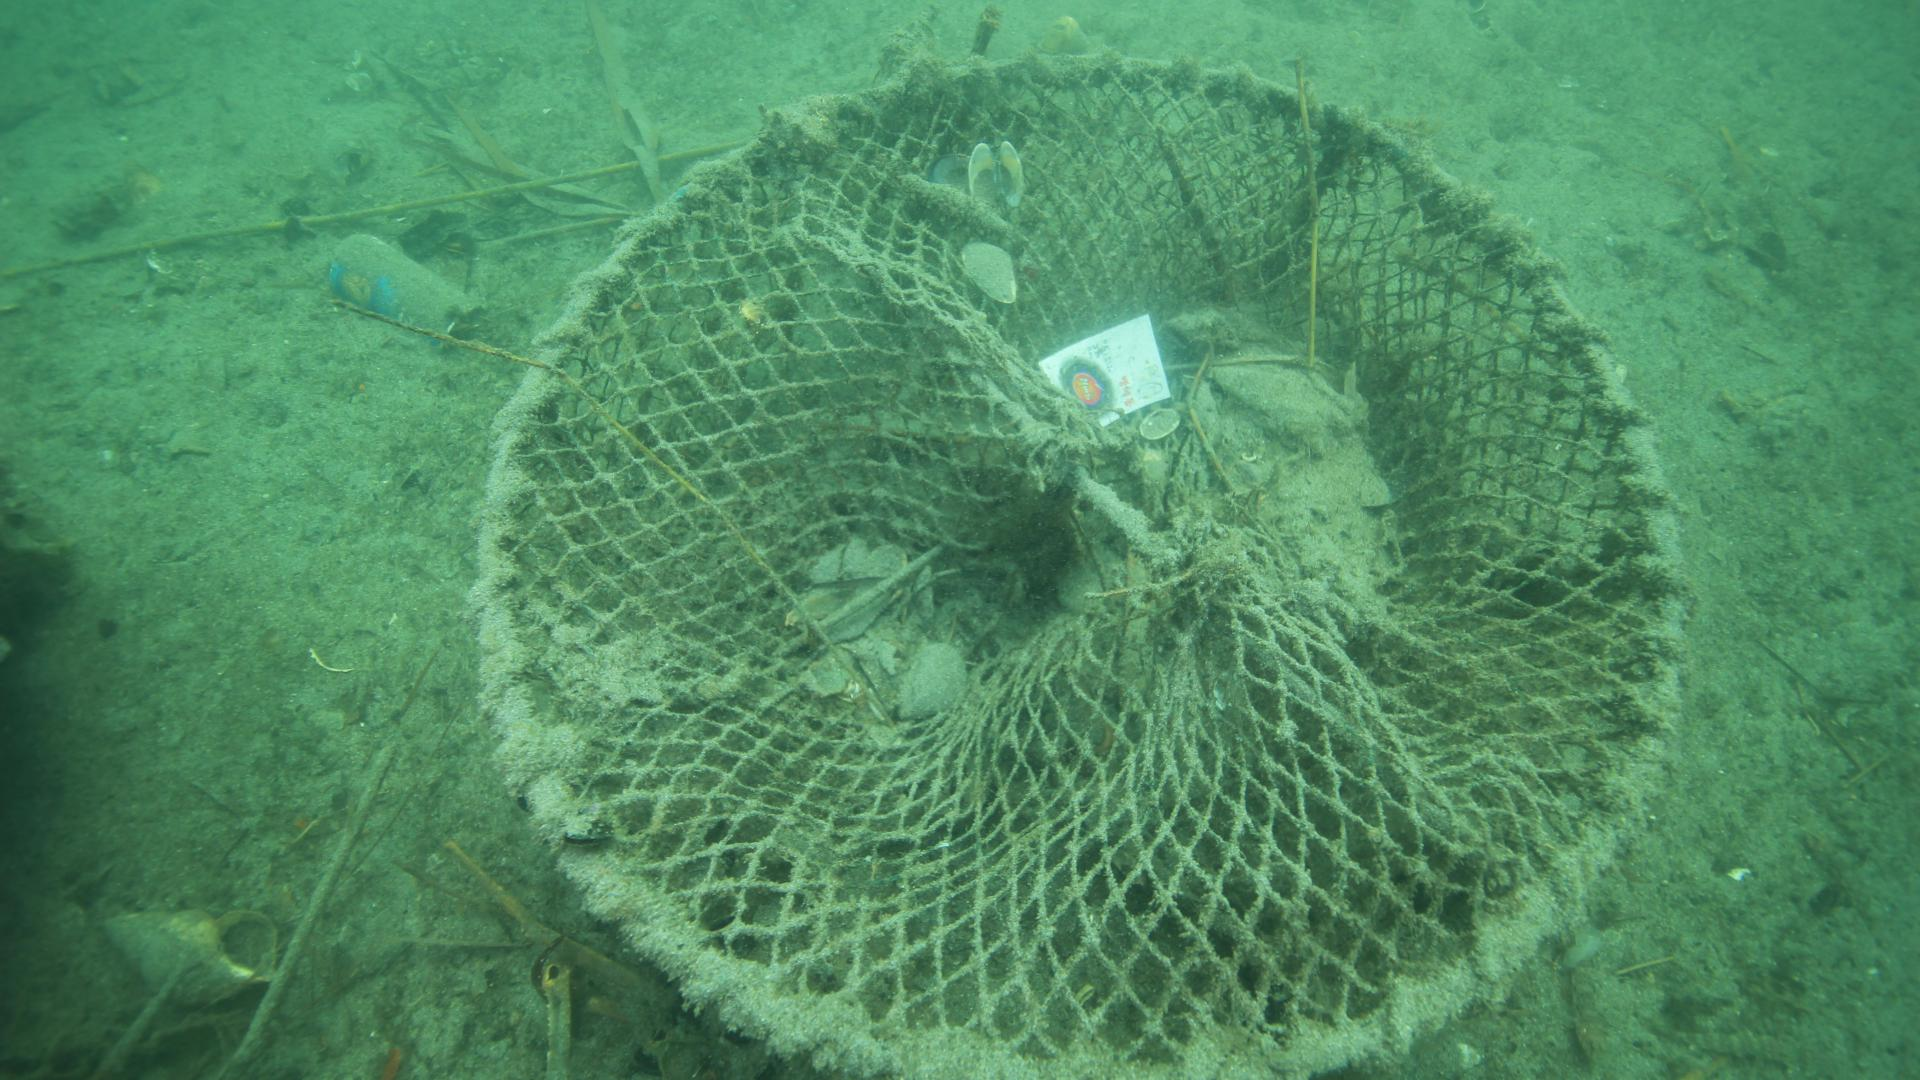circular fish trap: (475, 46, 1688, 1080)
